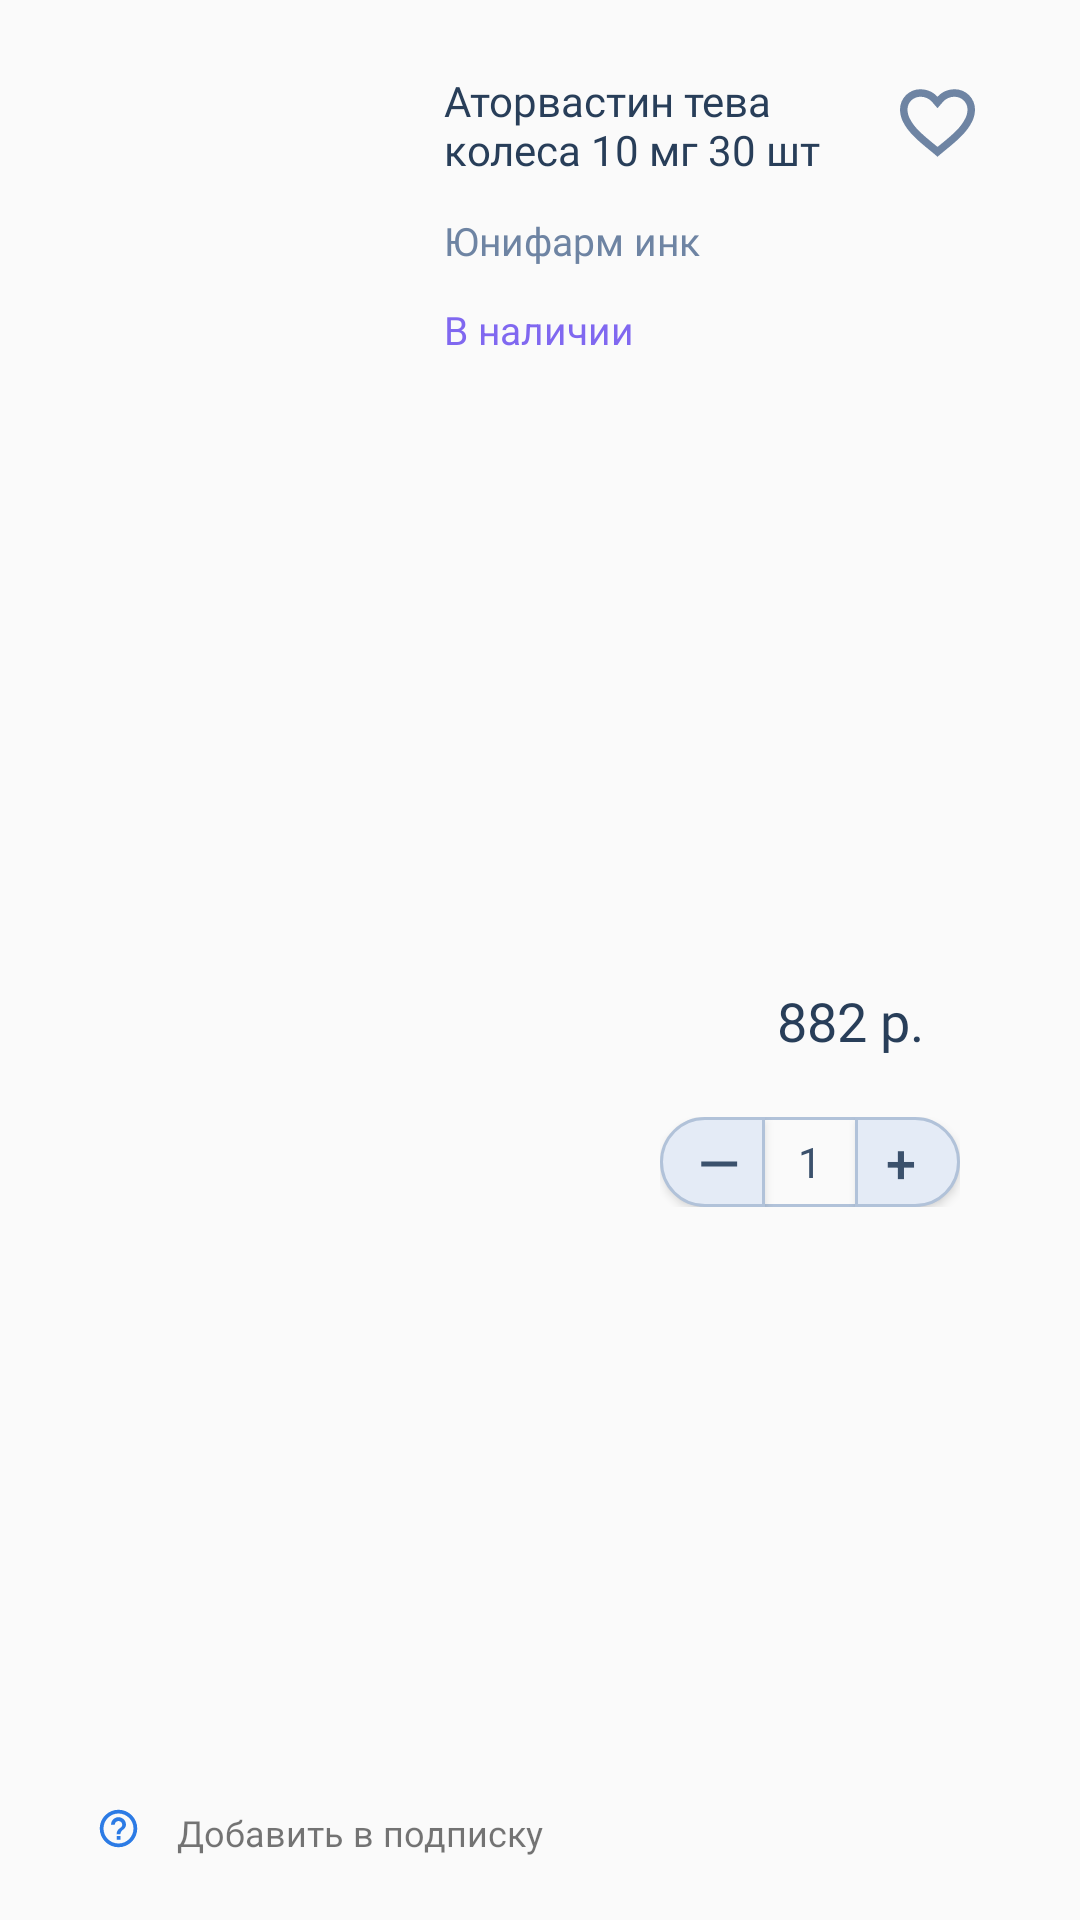

Where icons sit on this 1080px×1920px app screen, as (x1, y1, x2, y2):
like off: (900, 89, 975, 157)
